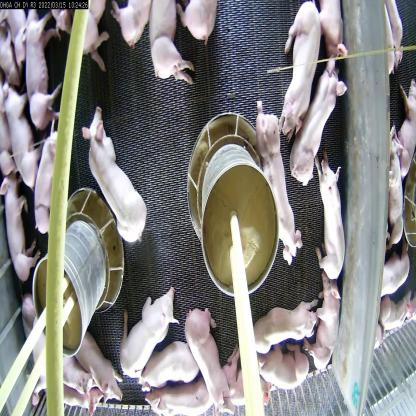Pig: (82, 108, 156, 250), (257, 99, 304, 266), (289, 50, 342, 181), (183, 298, 240, 415), (278, 0, 325, 137), (28, 125, 77, 254), (308, 270, 351, 406), (121, 288, 176, 380), (0, 64, 39, 192), (260, 323, 318, 409), (22, 10, 64, 128), (0, 174, 45, 283), (224, 333, 281, 415), (142, 0, 192, 92), (312, 143, 345, 268), (73, 340, 132, 405), (142, 335, 200, 396), (20, 294, 52, 401), (52, 359, 113, 415), (254, 310, 318, 360), (111, 0, 158, 64), (156, 368, 219, 415), (312, 0, 346, 77), (177, 0, 225, 38)
